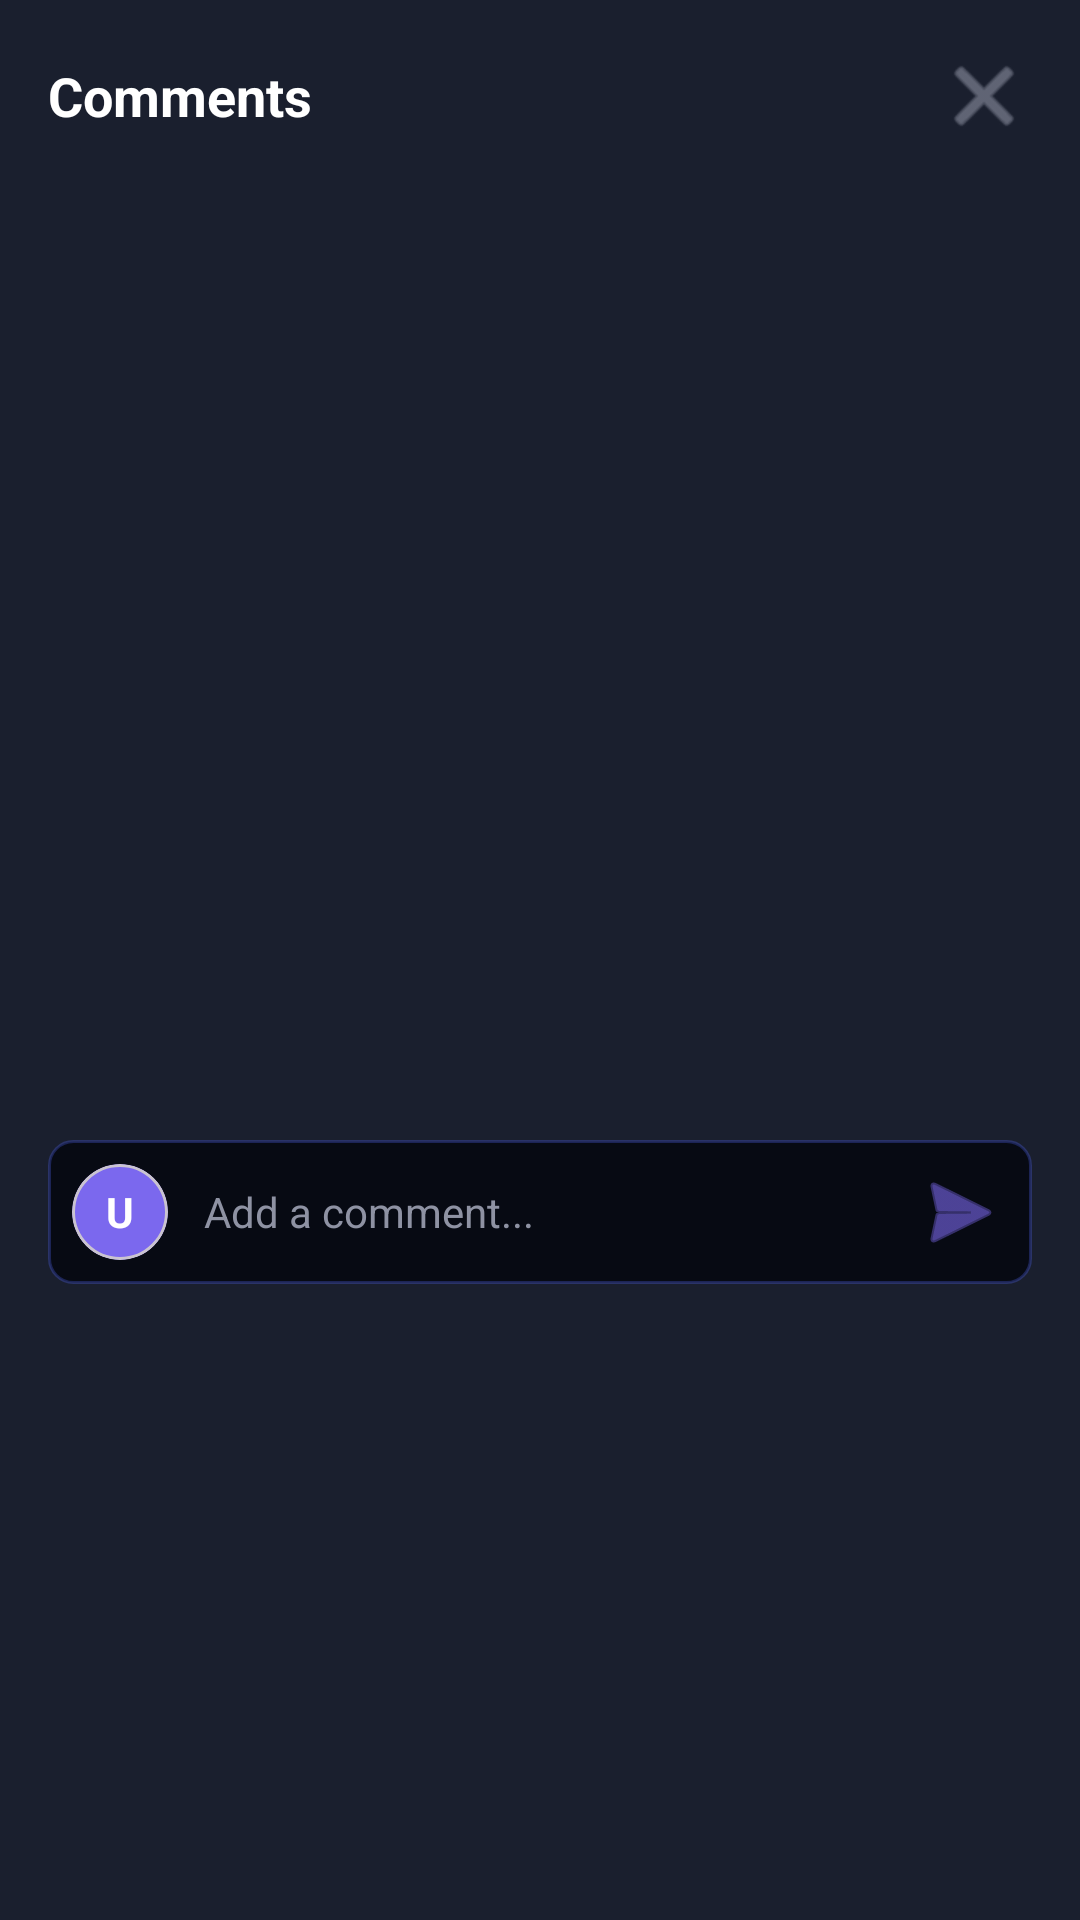

Icons on this 1080*1920 Android screen, each with the point to tap as [x,y]:
close clear cancel: [984,96]
send: [961,1212]
